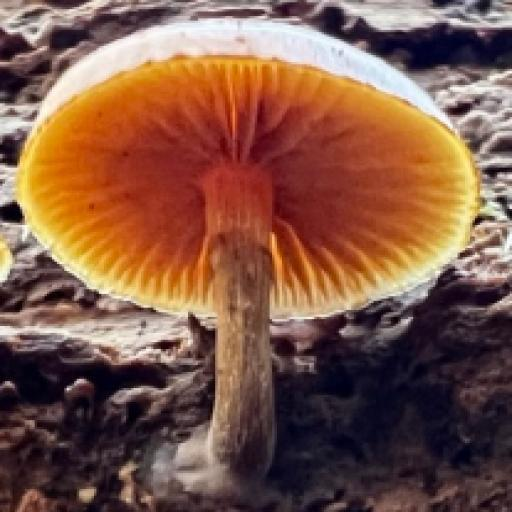mushroom: (16, 8, 488, 438)
